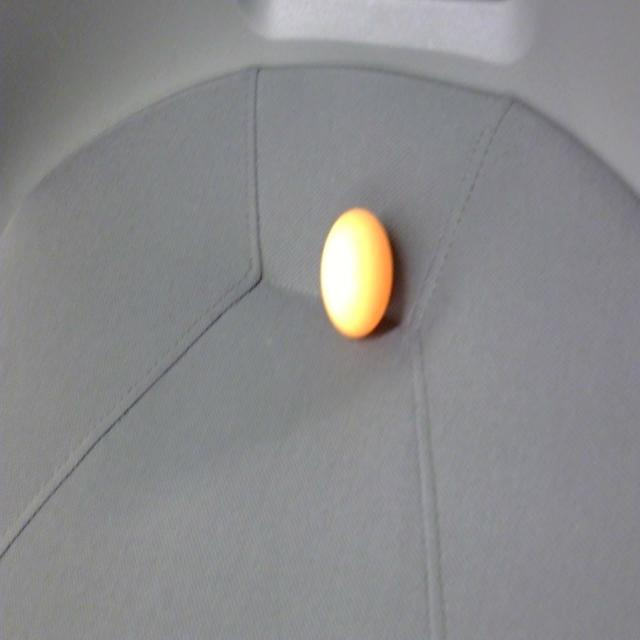ball: (319, 201, 395, 341)
